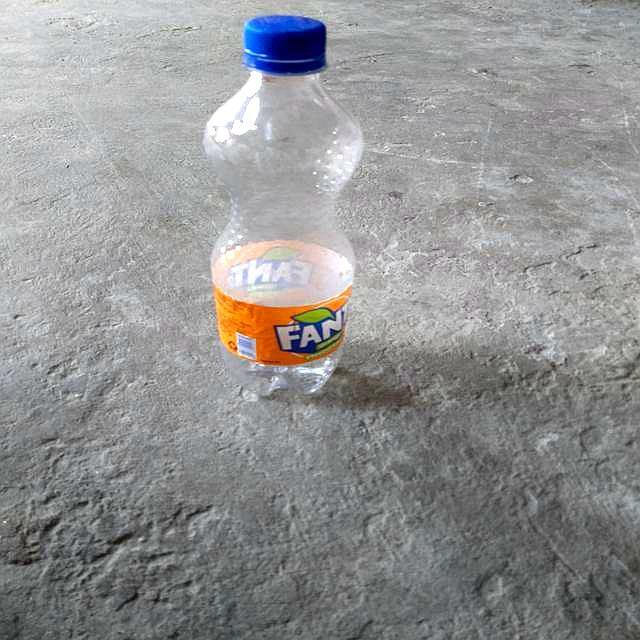Non-biodegradable: (205, 13, 365, 396)
